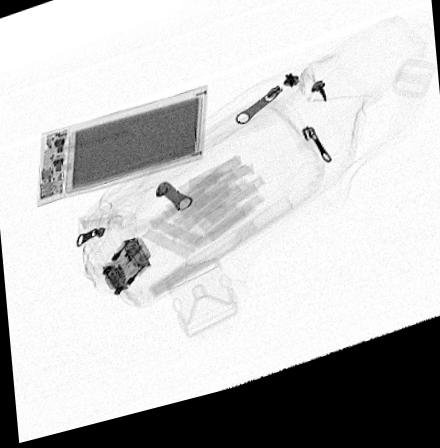Powerbank: (36, 96, 207, 209)
